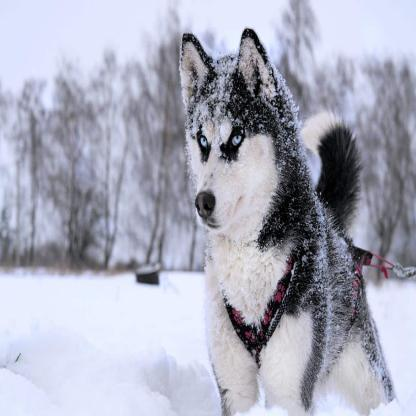husky: (178, 31, 394, 416)
